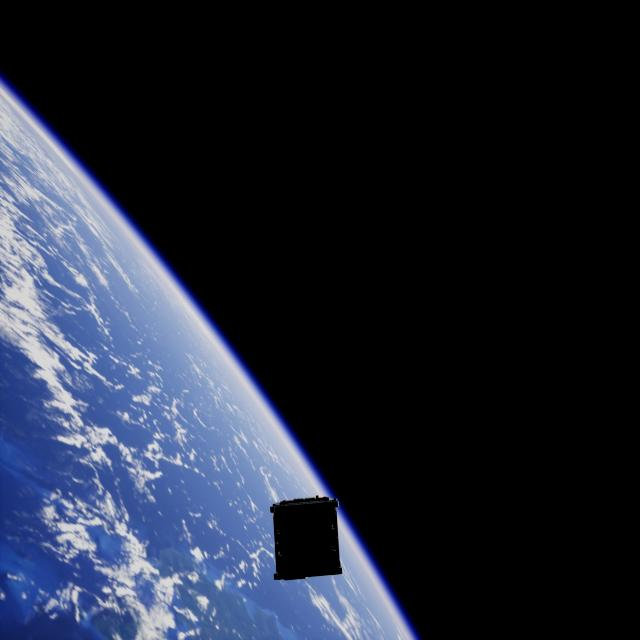satellite: (266, 492, 347, 589)
